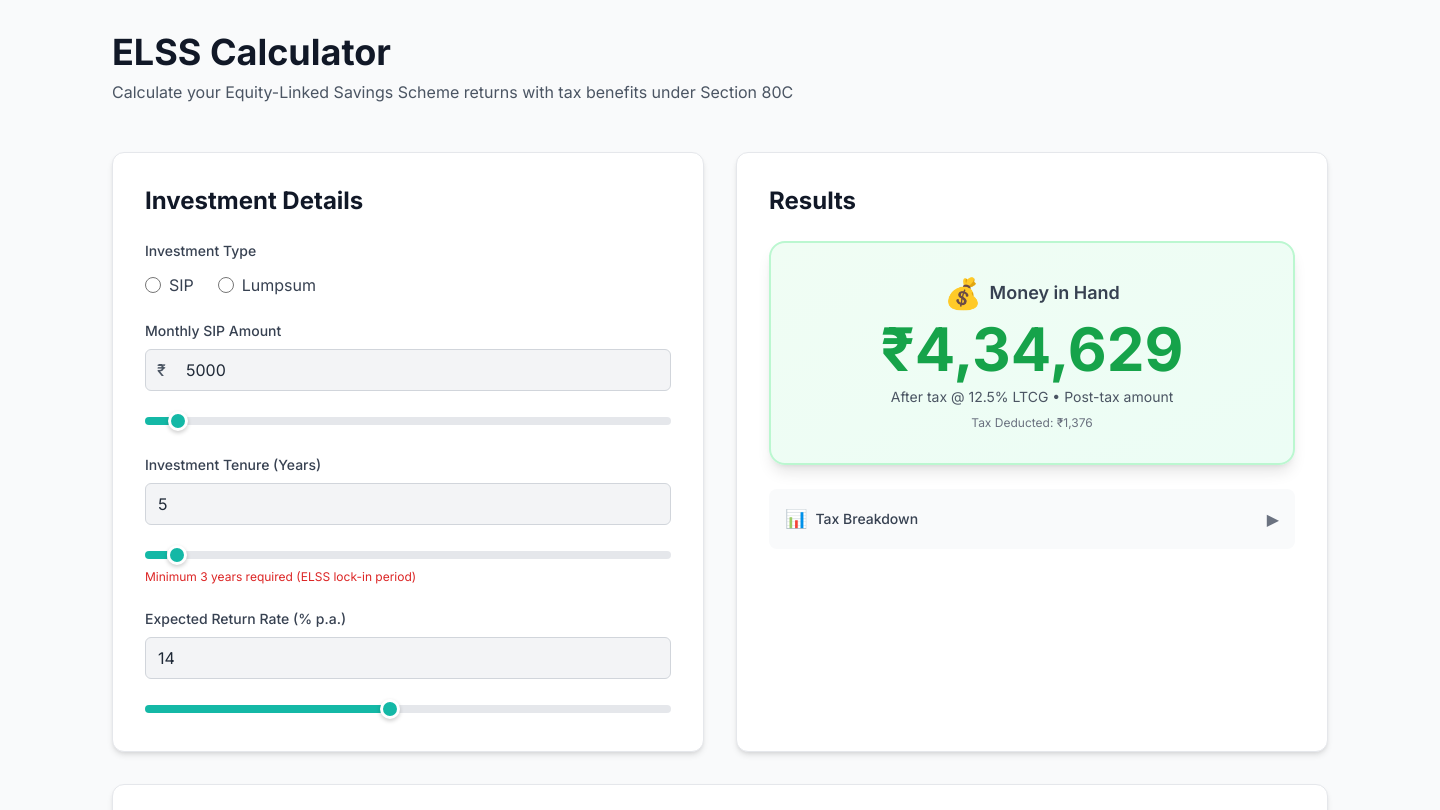
Test case: ELSS Calculator › ELSS-08 / ELSS-09: Validation › ELSS-09: should validate minimum 3-year tenure (lock-in)
The image size is (1440, 810).
Type "2" into the number field with placeholder "5" below "Investment Tenure (Years)" at (408, 504), box [145,483,671,525]
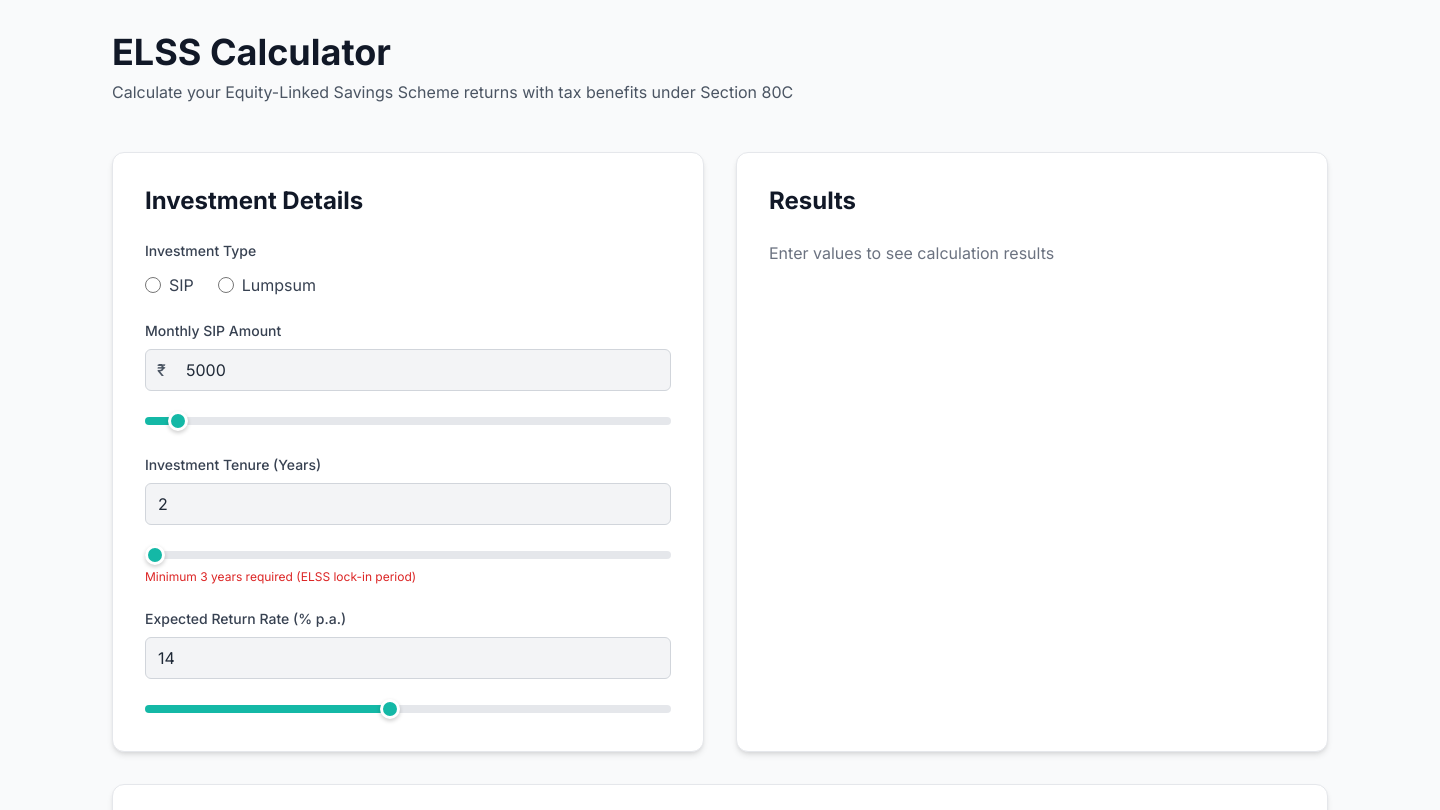
Leave the number field with placeholder "5" below "Investment Tenure (Years)", box [145,483,671,525]
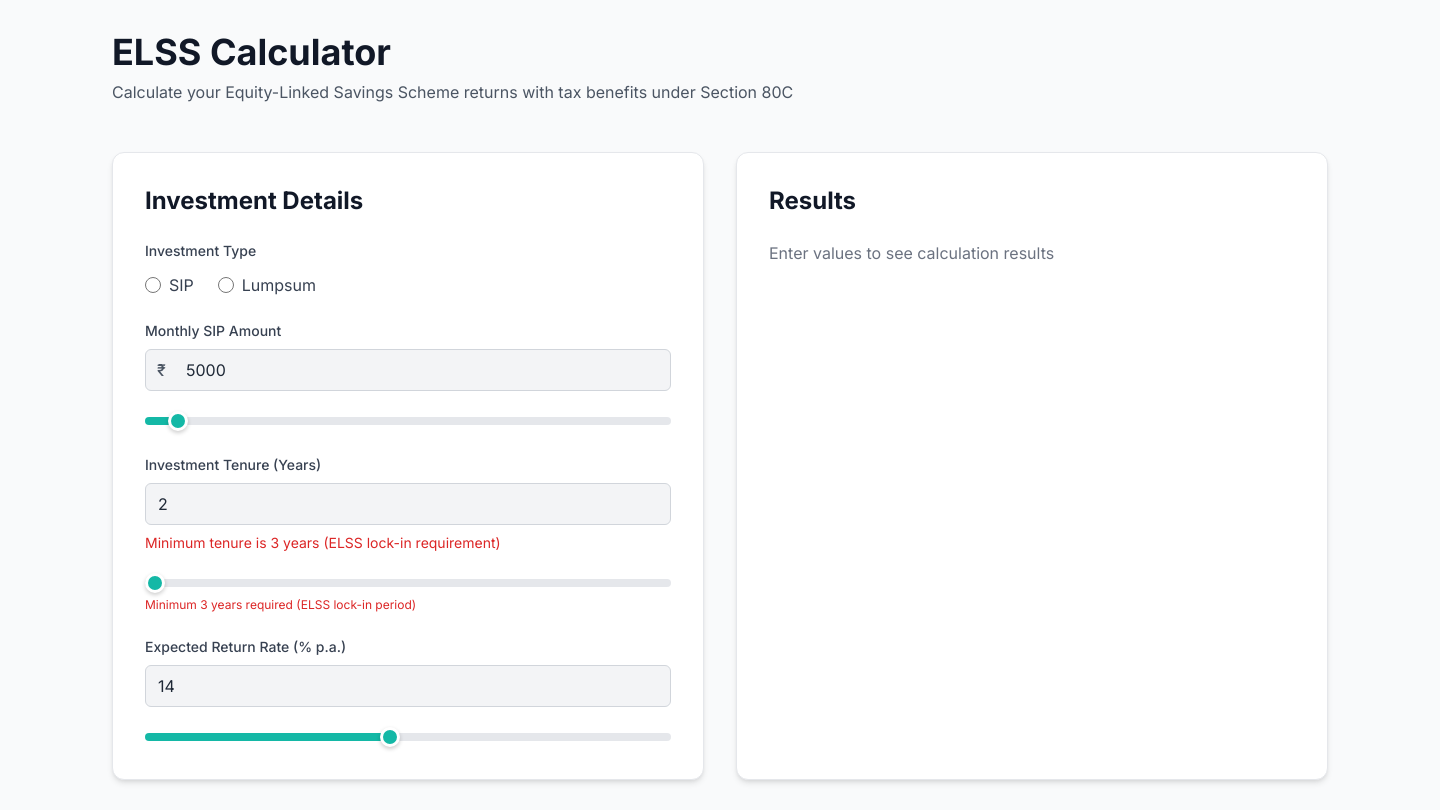
Now the text "Minimum tenure is 3 years (ELSS lock-in requirement)" is shown, box [145,534,501,551]
